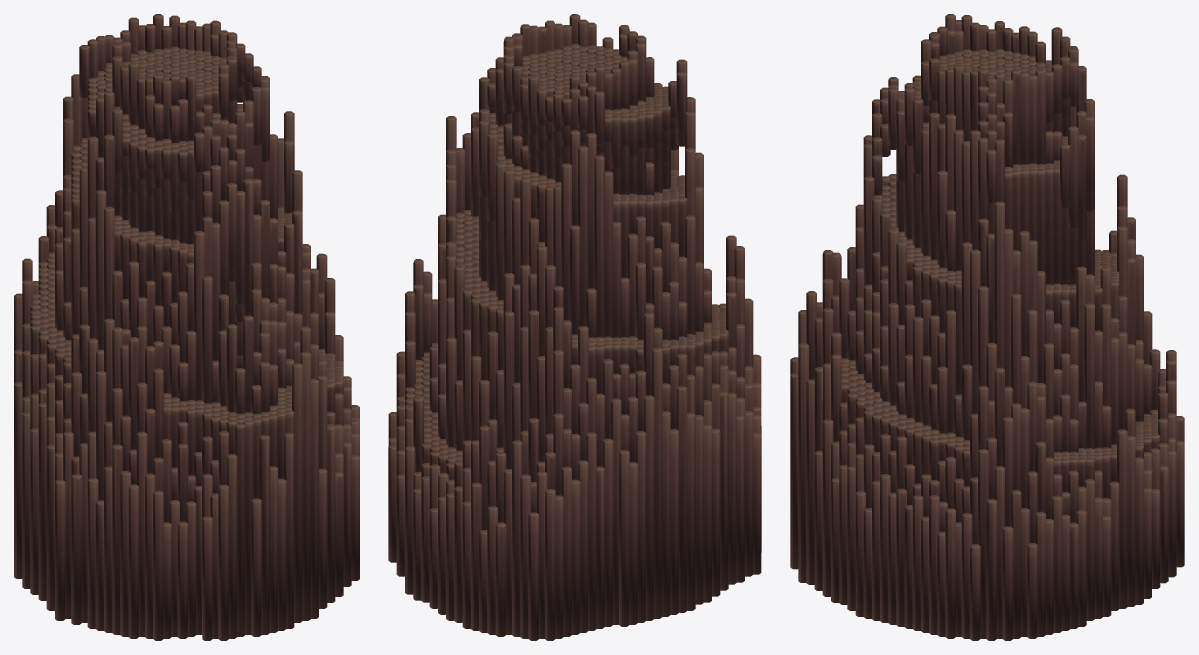
The model's file is Room04_Version02_BasaltRock_Bottom.fbx.
The picture shows the model from 3 angles, left to right: view 1: azimuth 30°, elevation 25°; view 2: azimuth 150°, elevation 25°; view 3: azimuth 270°, elevation 25°; orthographic projection.
Visible parts, largest first — view 1: Basalt_Floor_Pillars, Basalt_FloorWalls_Pillars; view 2: Basalt_Floor_Pillars, Basalt_FloorWalls_Pillars; view 3: Basalt_Floor_Pillars, Basalt_FloorWalls_Pillars.
Part boxes in pixels (<box>): Basalt_Floor_Pillars: <box>14,14,359,640</box>; Basalt_FloorWalls_Pillars: <box>30,46,343,430</box>; Basalt_Floor_Pillars: <box>388,14,761,640</box>; Basalt_FloorWalls_Pillars: <box>405,43,728,470</box>; Basalt_Floor_Pillars: <box>790,14,1184,640</box>; Basalt_FloorWalls_Pillars: <box>841,49,1160,467</box>.
Size of what is drawn, in the model's own units: 117 by 181 by 125.
